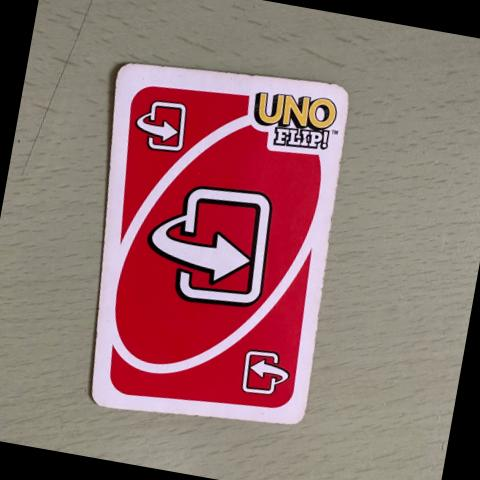lredflip-20: (115, 73, 205, 168)
